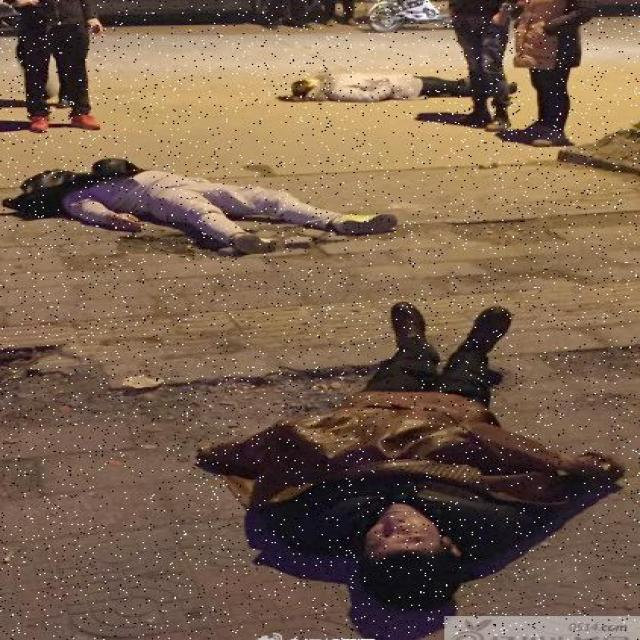fall: (273, 303, 567, 599), (12, 148, 392, 260), (282, 62, 517, 98)
